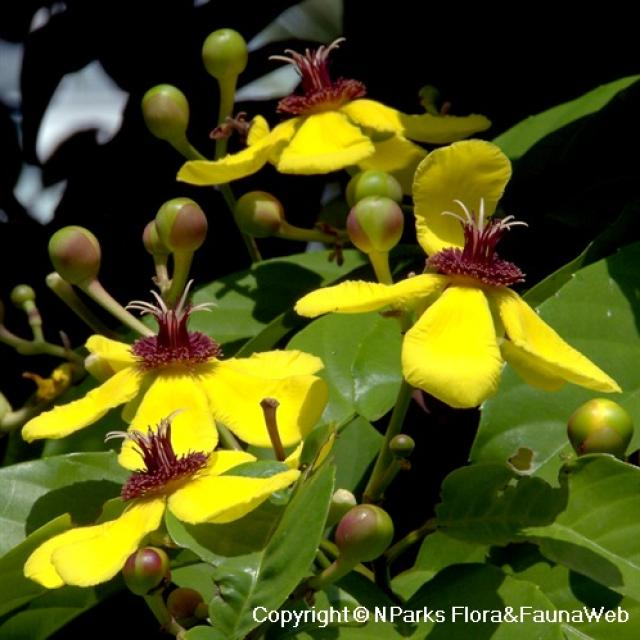Simpoh-Lak: (297, 134, 622, 411), (20, 275, 326, 471), (172, 36, 492, 197), (26, 416, 312, 590), (136, 197, 216, 274), (341, 166, 410, 254), (562, 393, 638, 458), (330, 496, 402, 564), (54, 217, 116, 290), (198, 23, 253, 85), (146, 76, 196, 140), (118, 546, 174, 592)
